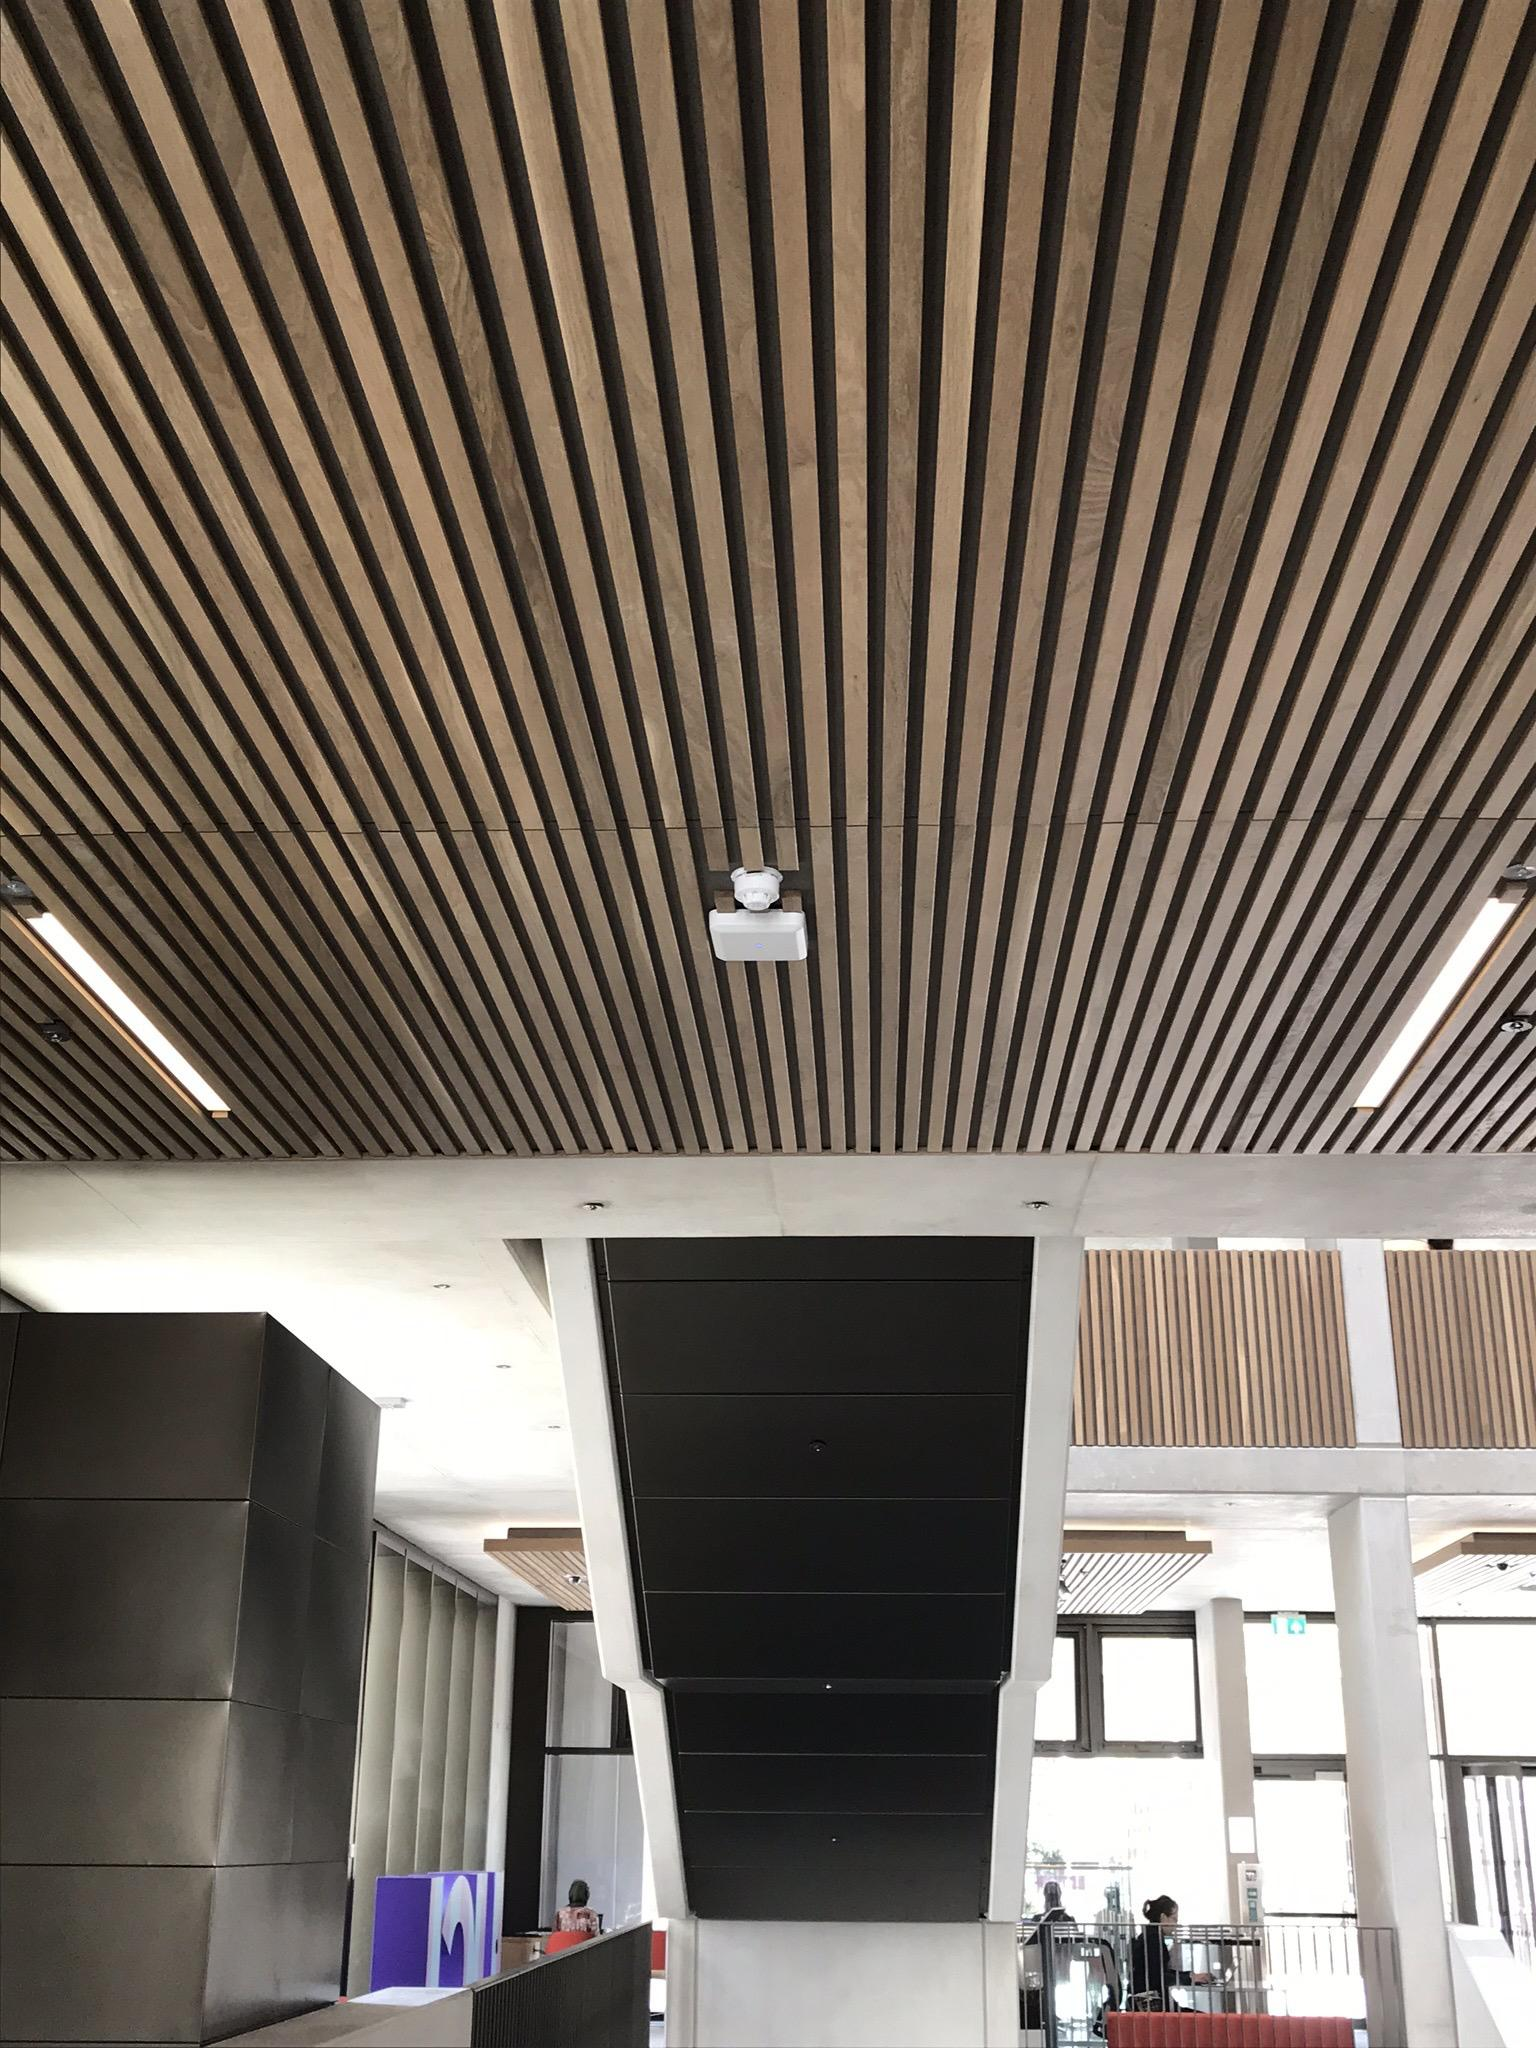detector: (729, 866, 784, 911)
